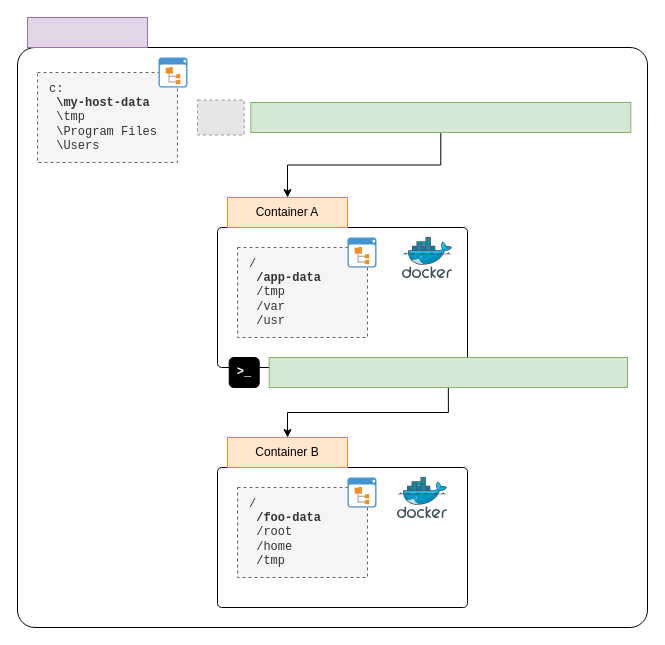
The diagram is 665 pixels wide and 645 high, and some of its shapes have lost their labels. Grey dashed boxes stand in for pictures. Here are the shapes that lost their labels. From the top down, the box of each, then its label:
(26, 16, 148, 48): Windows Host
(250, 102, 631, 132): docker run -v c:\my-host-data: /app-data docker:cli
(268, 356, 628, 388): docker run -v c:\my-host-data: /foo-data ubuntu
